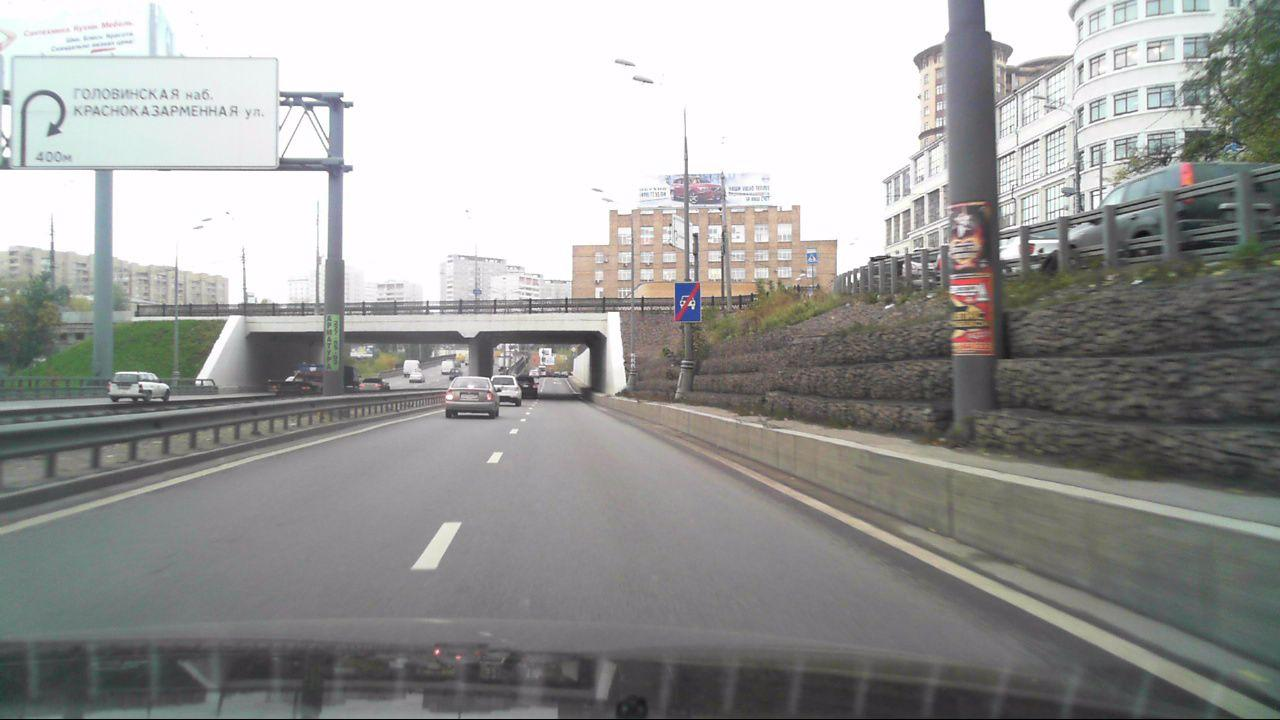5_4: (674, 282, 702, 324)
6_9_1: (11, 57, 278, 167)
